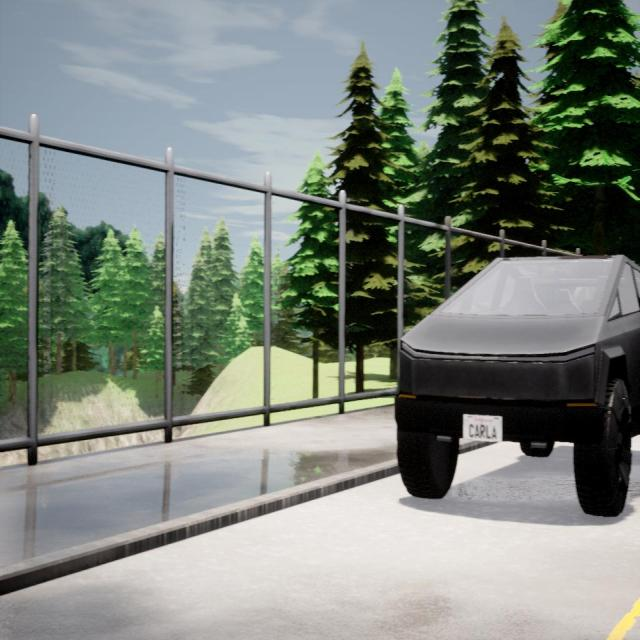Vehicle: (396, 255, 640, 516)
